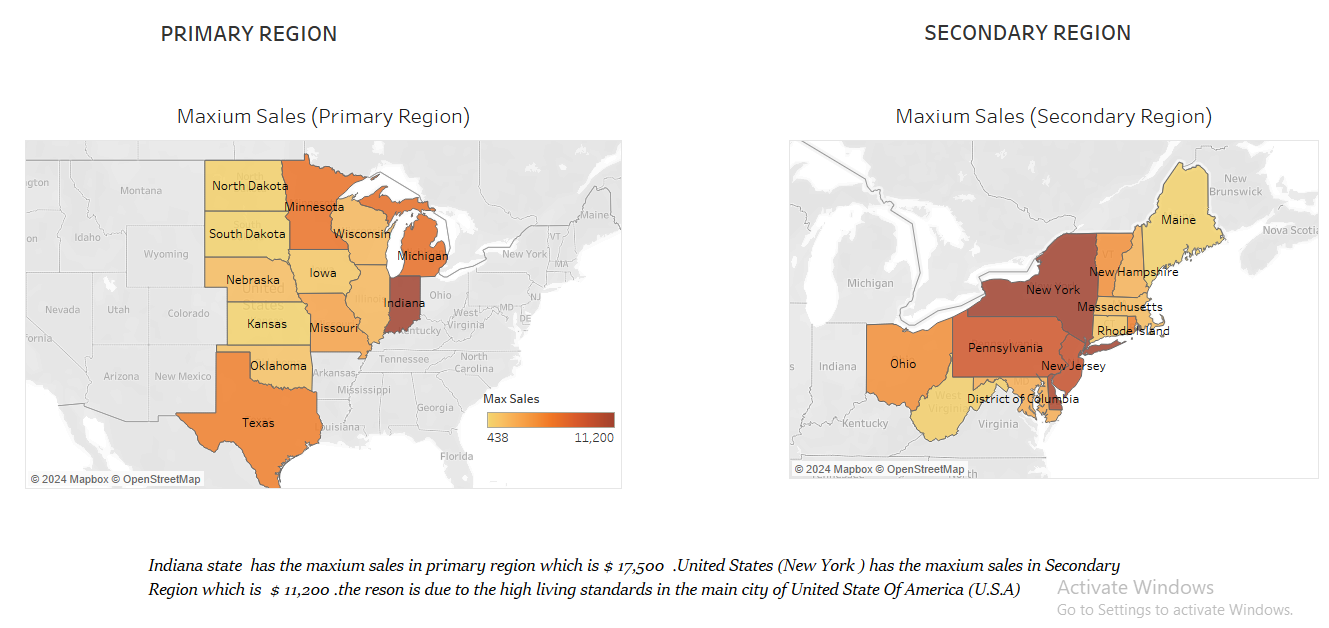

The dashboard page shown, as its layout file describes it:
{"tool":"tableau","page":{"name":"Maps Comparision","canvas":[1000,1000],"units":"permille","ordinal":2},"visuals":[{"type":"text","box":[671.9,107.9,184.4,51.4]},{"type":"text","box":[115.2,109.6,158.4,51.4]},{"type":"worksheet","title":"Maximum Sales (Primary  Region)","mark":"Multipolygon","box":[30.3,222.6,437.2,530.8]},{"type":"worksheet","title":"Maximum Sales (Secondary Region) (2)","mark":"Multipolygon","box":[589.6,222.6,387.9,532.5]},{"type":"legend","title":"Maximum Sales (Secondary Region) (2)","param":"[federated.1iwd5dl0t1mlbb1dmplsk0h940wd].[usr:Calculation_787004045802881027:qk]","box":[365.4,619.9,99.6,130.1]},{"type":"text","box":[120.4,774,743.7,202.1]}]}

Visuals, with their boxes on the dashboard's canvas, which has no fixed pixel size, in thousandths of its width and height (x1, y1, x2, y2). These are canvas units, not pixel positions in the 1329x628 screenshot, which may show the page scaled, cropped or inside an application window:
text: BBox(672, 108, 856, 159)
text: BBox(115, 110, 274, 161)
"Maximum Sales (Primary  Region)" worksheet (Multipolygon marks): BBox(30, 223, 468, 753)
"Maximum Sales (Secondary Region) (2)" worksheet (Multipolygon marks): BBox(590, 223, 978, 755)
"Maximum Sales (Secondary Region) (2)" legend: BBox(365, 620, 465, 750)
text: BBox(120, 774, 864, 976)
